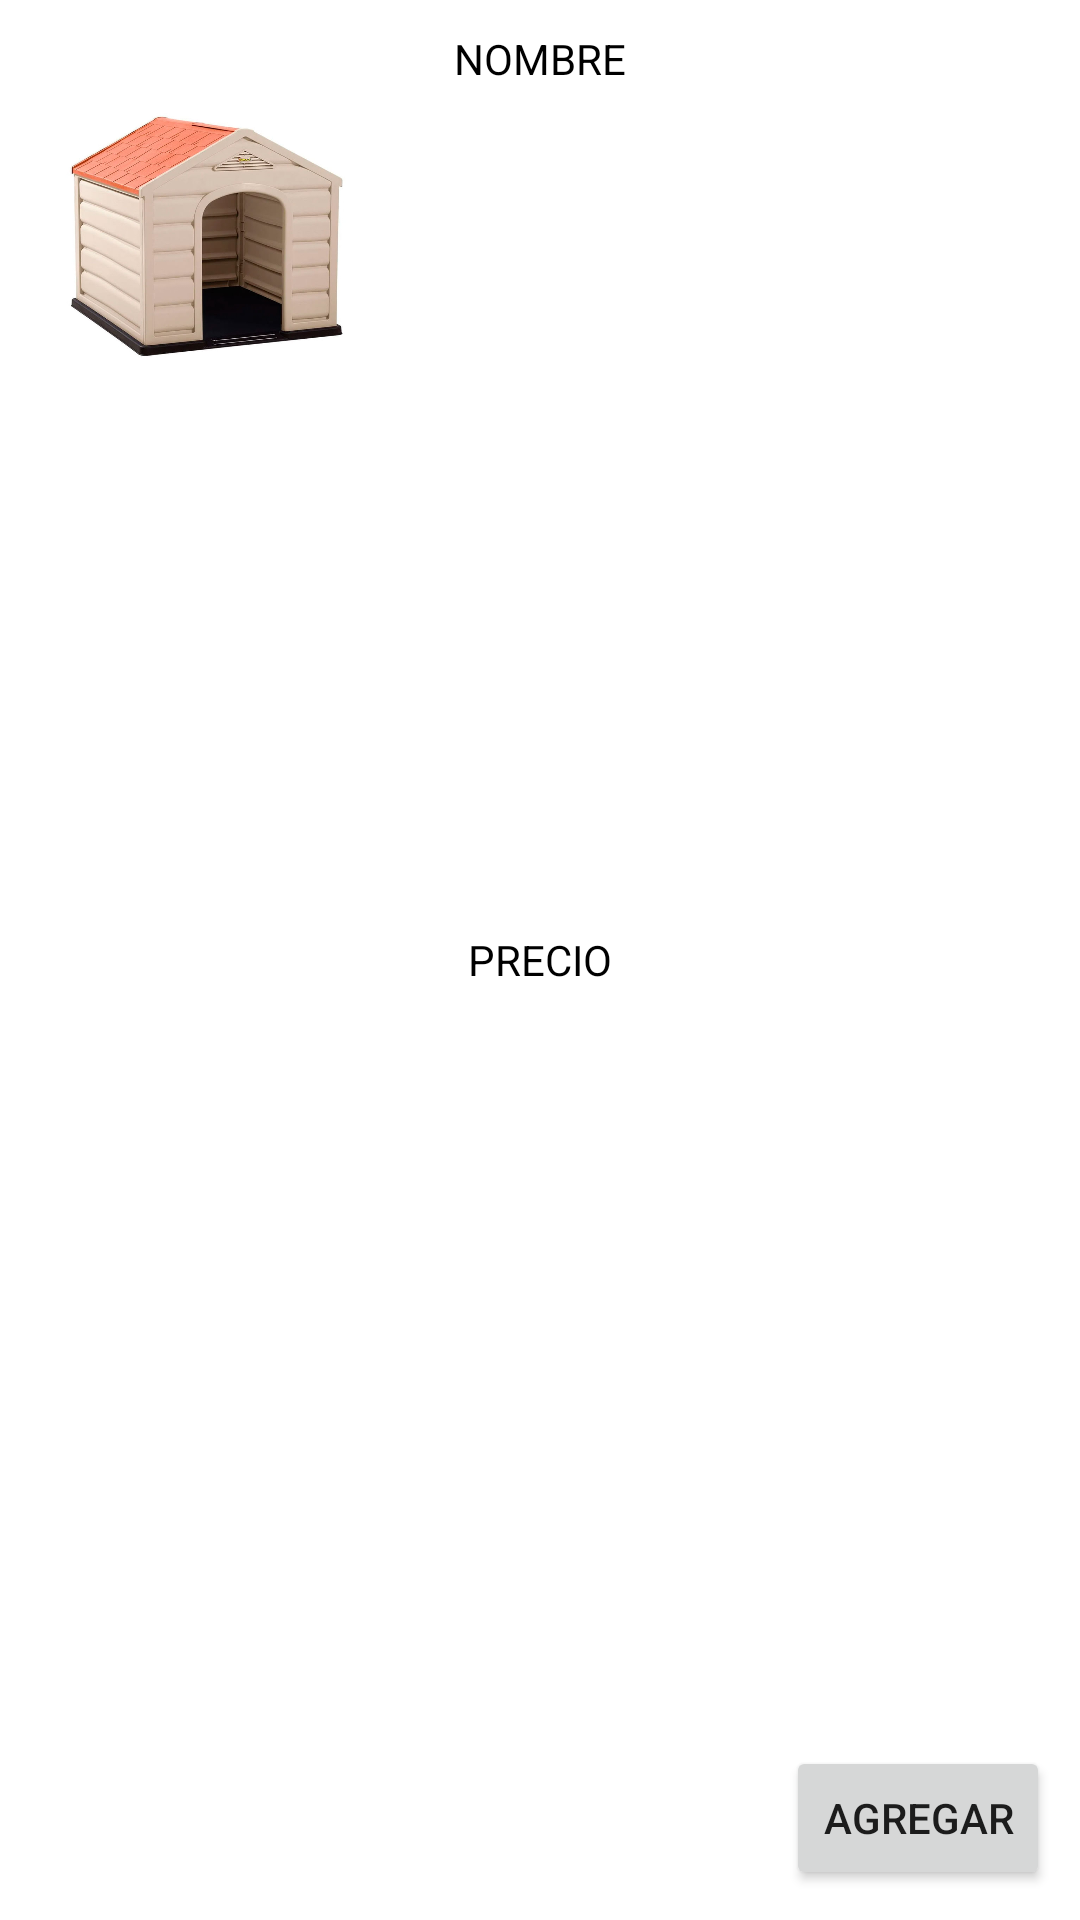

Locate icon controls on the screen. Image size 1080px×1920px, boxes as region(x1, y1, x2, y2).
casa: region(71, 117, 343, 356)
